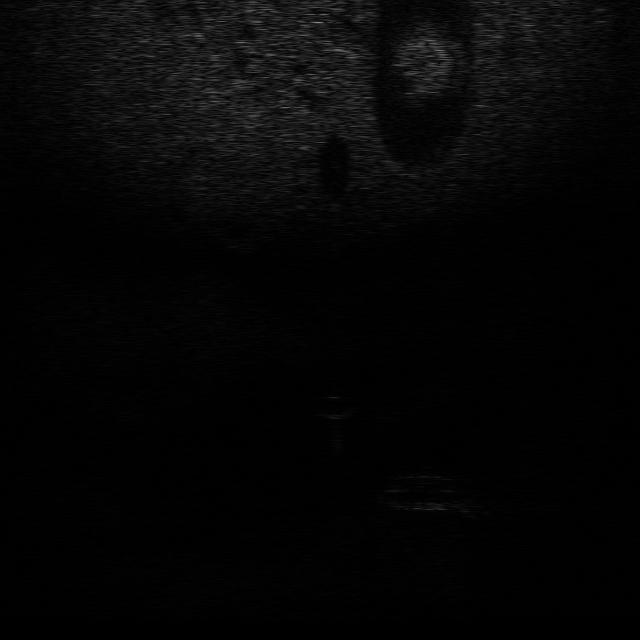ball: (310, 390, 358, 419)
tyre: (376, 470, 475, 514)
